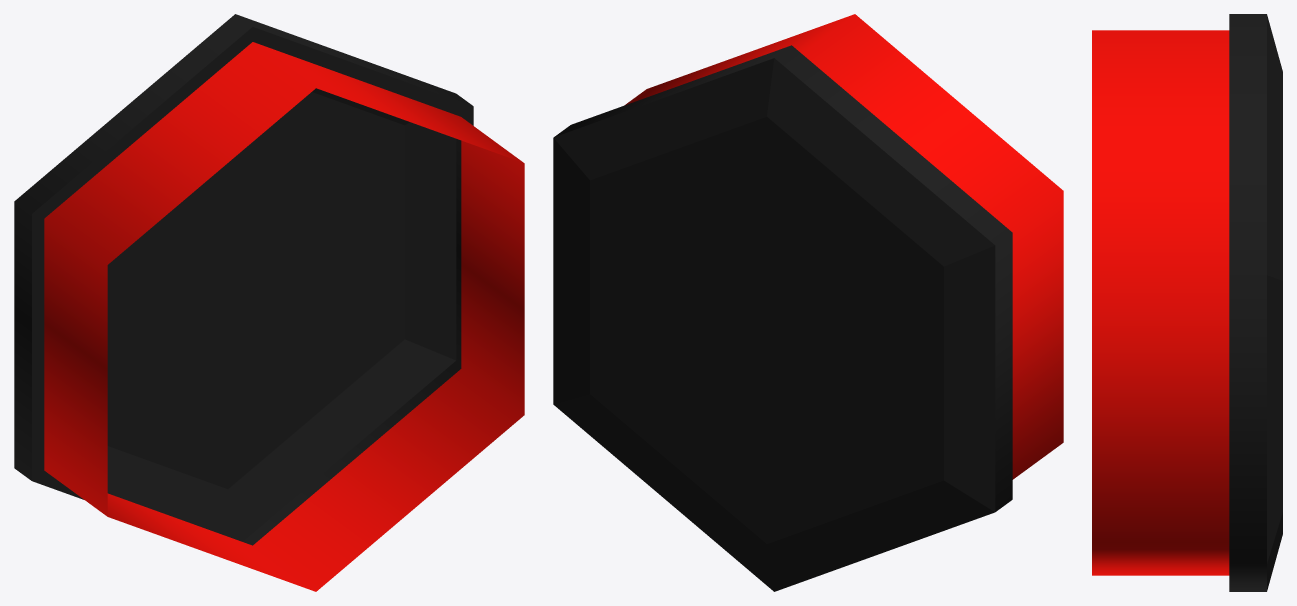
File: Wal_Tile_Low.fbx
The picture shows the model from 3 angles, left to right: view 1: azimuth 30°, elevation 25°; view 2: azimuth 150°, elevation 25°; view 3: azimuth 270°, elevation 25°; orthographic projection. The views are drawn at different scales.
Parts seen in each view (by area): view 1: Wal_Tile_Low; view 2: Wal_Tile_Low; view 3: Wal_Tile_Low.
Boxes of the visible parts, <box> form: Wal_Tile_Low: <box>14,14,524,591</box>; Wal_Tile_Low: <box>553,14,1063,591</box>; Wal_Tile_Low: <box>1092,14,1282,591</box>.
Bounding box in the file's own units: 25.98 × 30 × 8.98.
